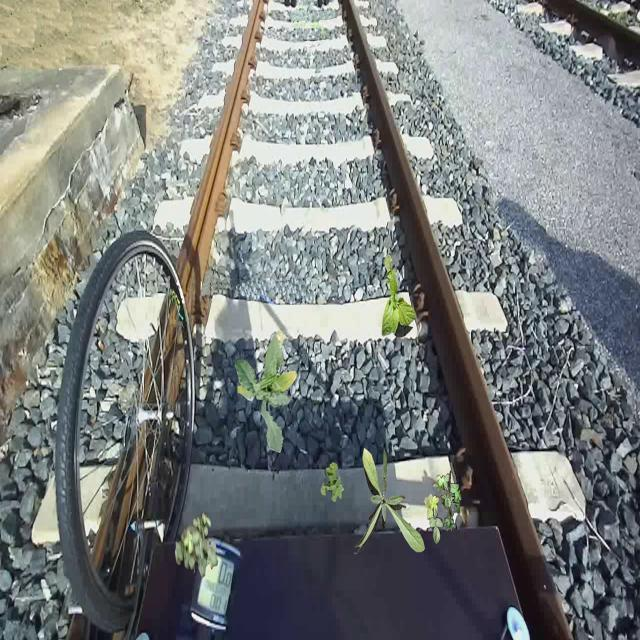Plant: (235, 329, 298, 454), (353, 447, 424, 555), (382, 254, 418, 338), (175, 511, 218, 578), (424, 471, 462, 544), (321, 462, 345, 503)
